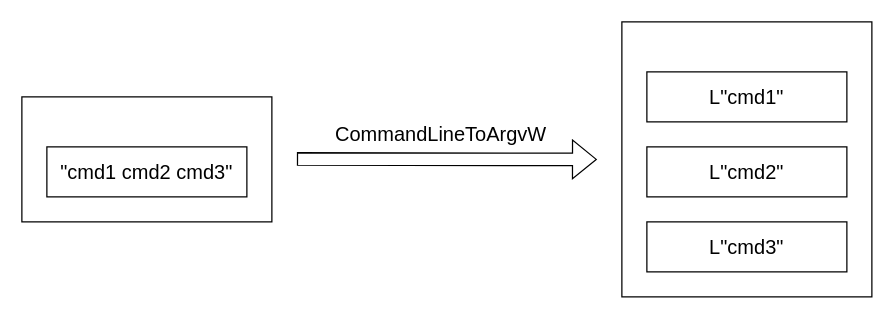
This 894x319 diagram has some shape labels left out. The shapes that lost their labels are listed below. From the top down, each one's box as (x1, y1, x2, y2) in pixels, then its label:
(21, 96, 272, 222): lpCmdLine命令行
(621, 21, 872, 297): WCHAR* pCmd[] 命令组
